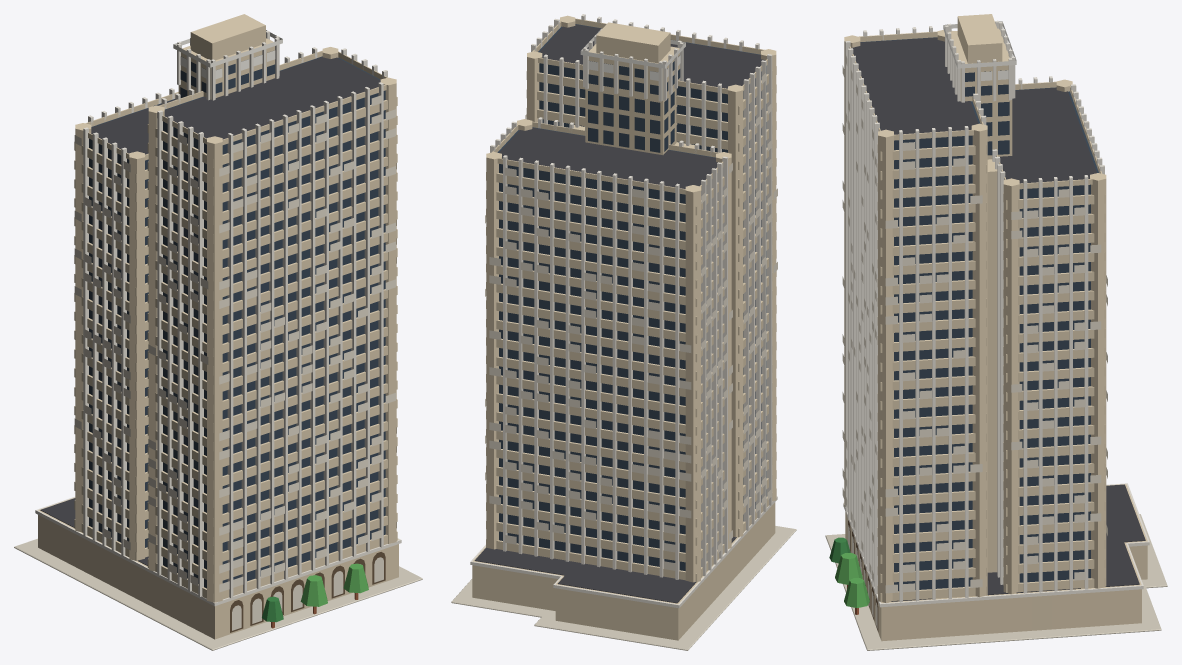
Rendered from 450-sutter-street.glb.
3 renders of one model, left to right at view 1: azimuth 30°, elevation 25°; view 2: azimuth 150°, elevation 25°; view 3: azimuth 270°, elevation 25°, orthographic. The views are drawn at different scales.
Parts seen in each view (by area): view 1: 450-sutter-street_body, 450-sutter-street_night_glow; view 2: 450-sutter-street_body, 450-sutter-street_night_glow; view 3: 450-sutter-street_body, 450-sutter-street_night_glow.
Boxes of the visible parts, x1,y1,x2,y2 form: 450-sutter-street_body: (14, 14, 422, 650); 450-sutter-street_night_glow: (74, 30, 396, 630); 450-sutter-street_body: (451, 14, 796, 650); 450-sutter-street_night_glow: (485, 28, 777, 570); 450-sutter-street_body: (825, 14, 1167, 650); 450-sutter-street_night_glow: (842, 21, 1107, 628).
Bounding box in the file's own units: 55.42 × 105 × 58.95.
